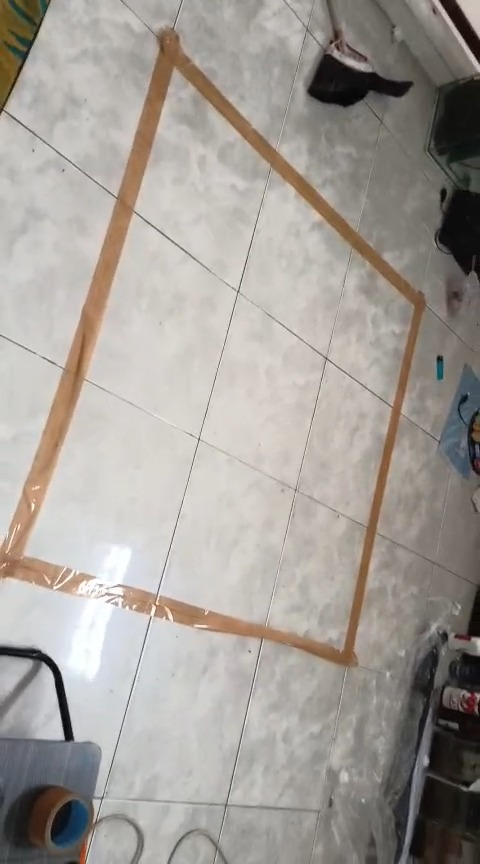floor marking: (0, 28, 423, 667)
